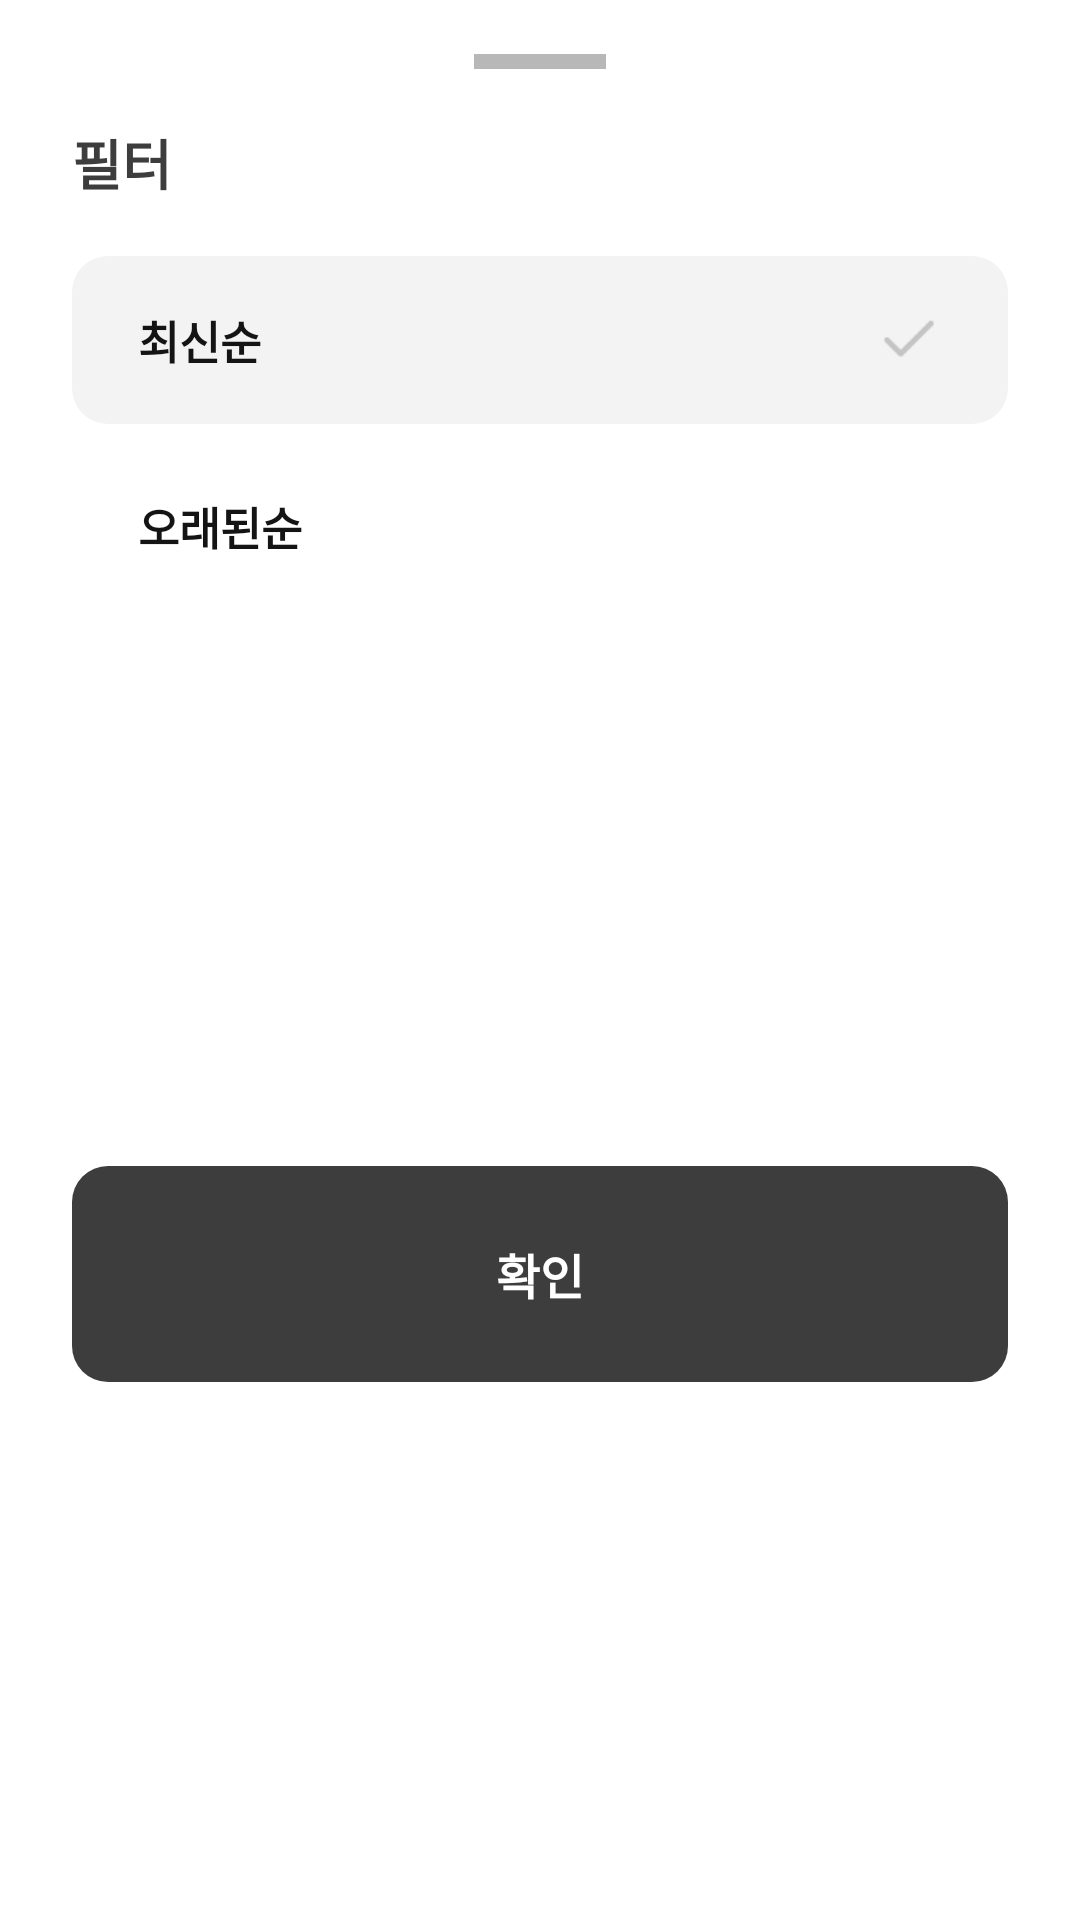

Screen size 1080 × 1920. Icon name, then its box in pixels as (x1, y1, x2, y2):
check: (884, 321, 934, 356)
